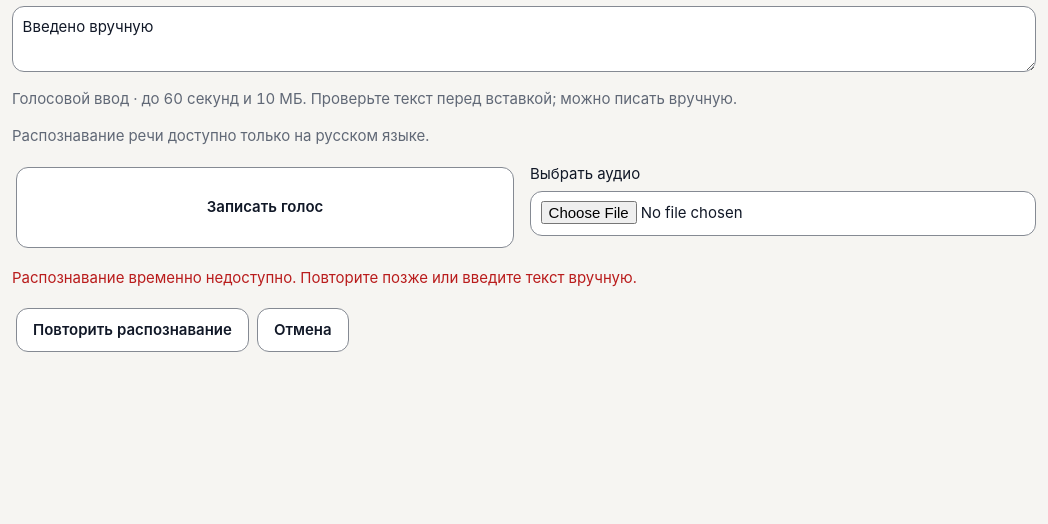
it: shows safe errors, allows retry, and explicitly marks mock transcripts
The width and height of the screenshot is (1048, 524).
Earlier steps of the test are not shown.
Later steps or results of the test are not shown.
Expected: the file field labelled "Выбрать аудио" is shown, [530,191,1036,236]
Click the button "Повторить распознавание": [132, 330] box [16,308,249,352]
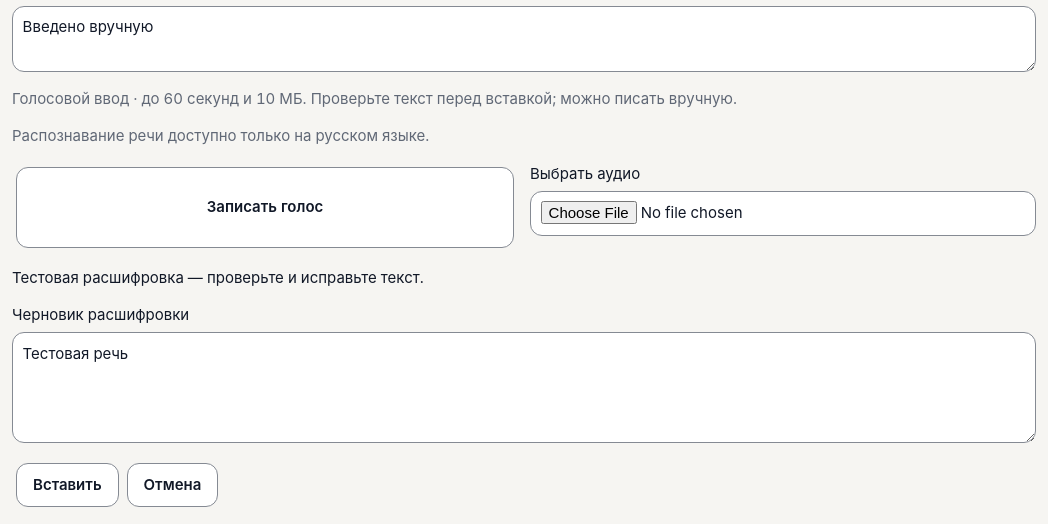
Expected: the button "Отмена" is shown, [127,463,218,507]
Expected: the text "Тестовая расшифровка" is shown, [12,268,424,287]
